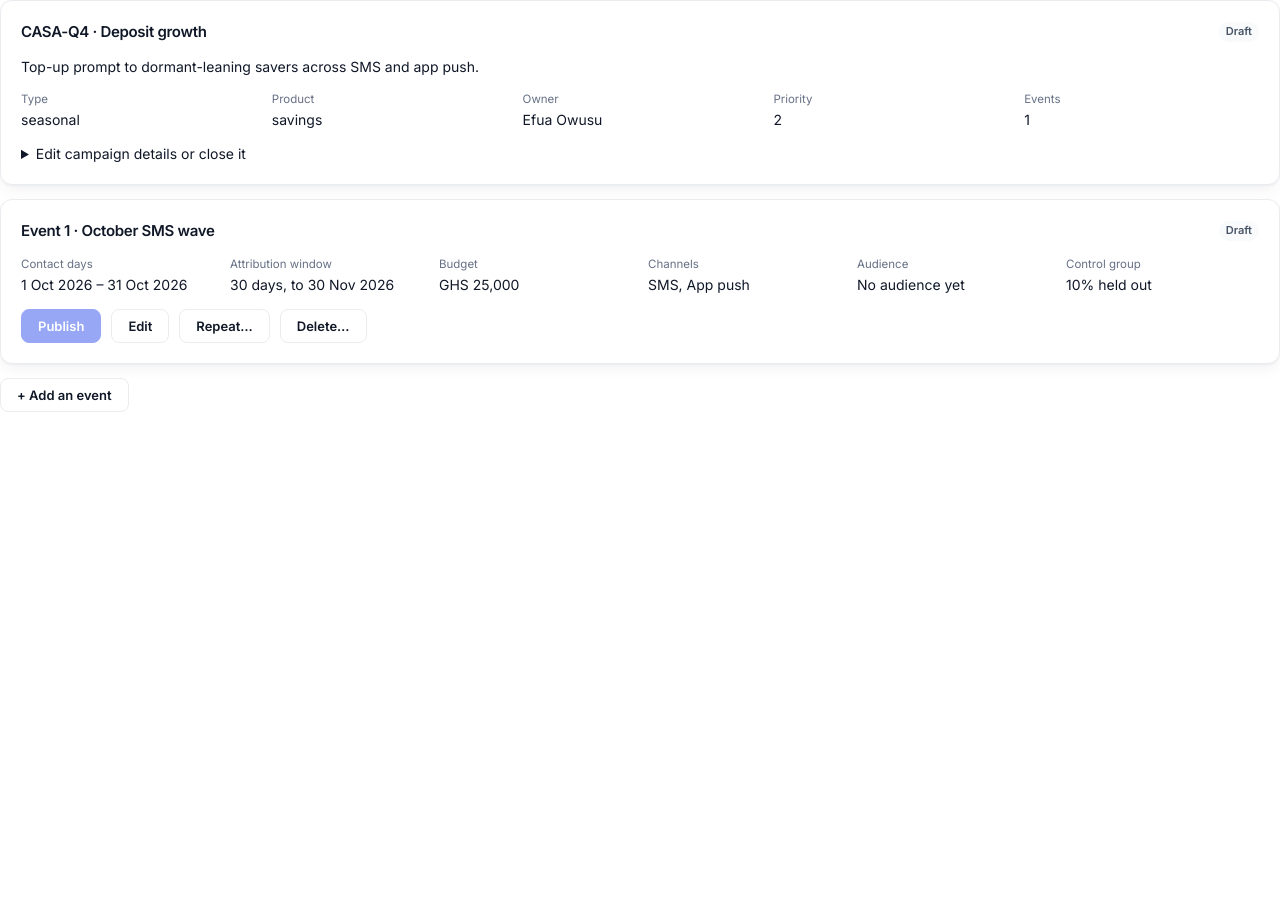
value and return › sends the control group share, and clears it with 0
The image size is (1280, 900).
Click the button "Edit". click: [140, 326]
box: 111,309 -> 169,343
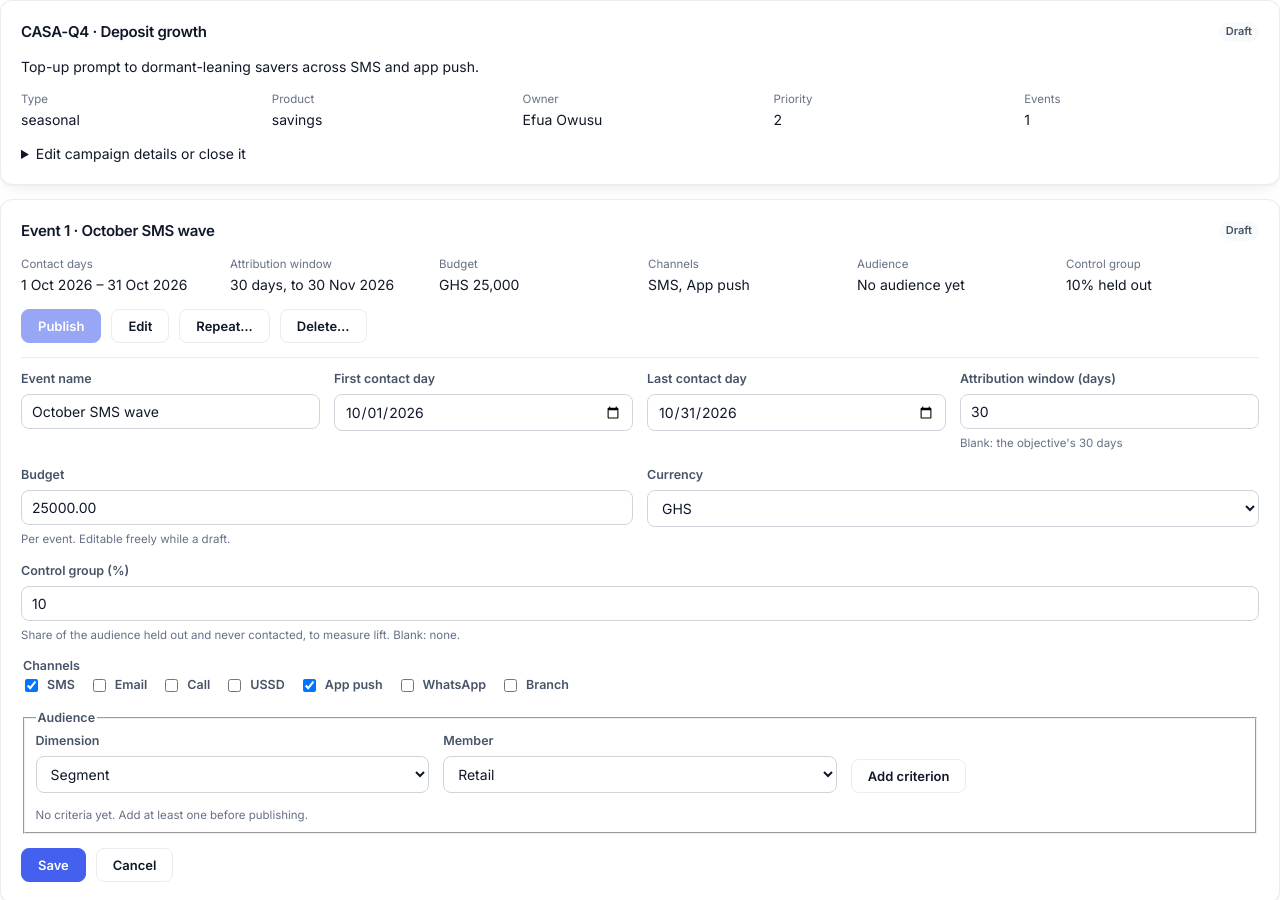
Clear the number field labelled "Control group (%)". click: [640, 603]
box: 21,586 -> 1259,621
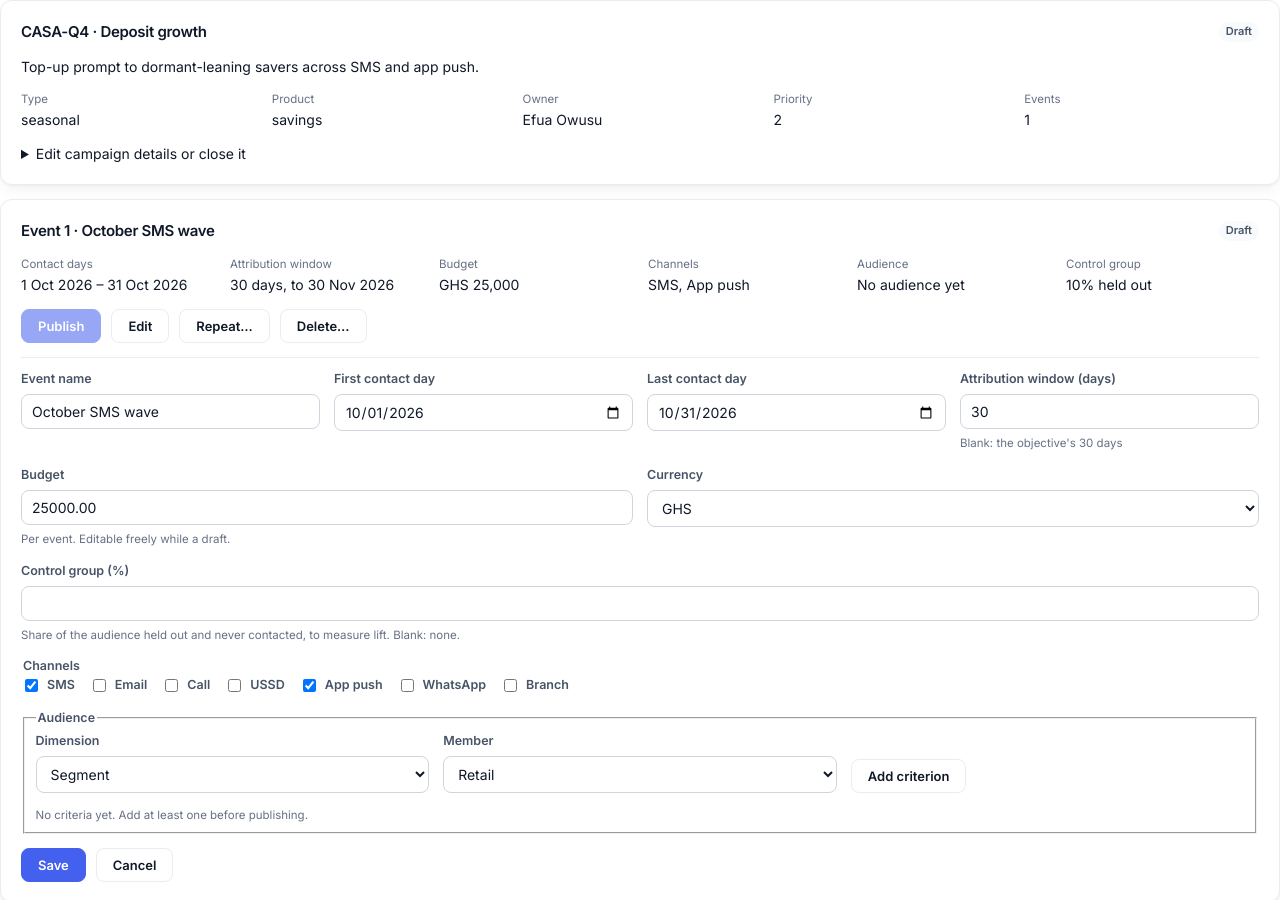
Click the button "Save". click: [53, 865]
box: 21,848 -> 86,882
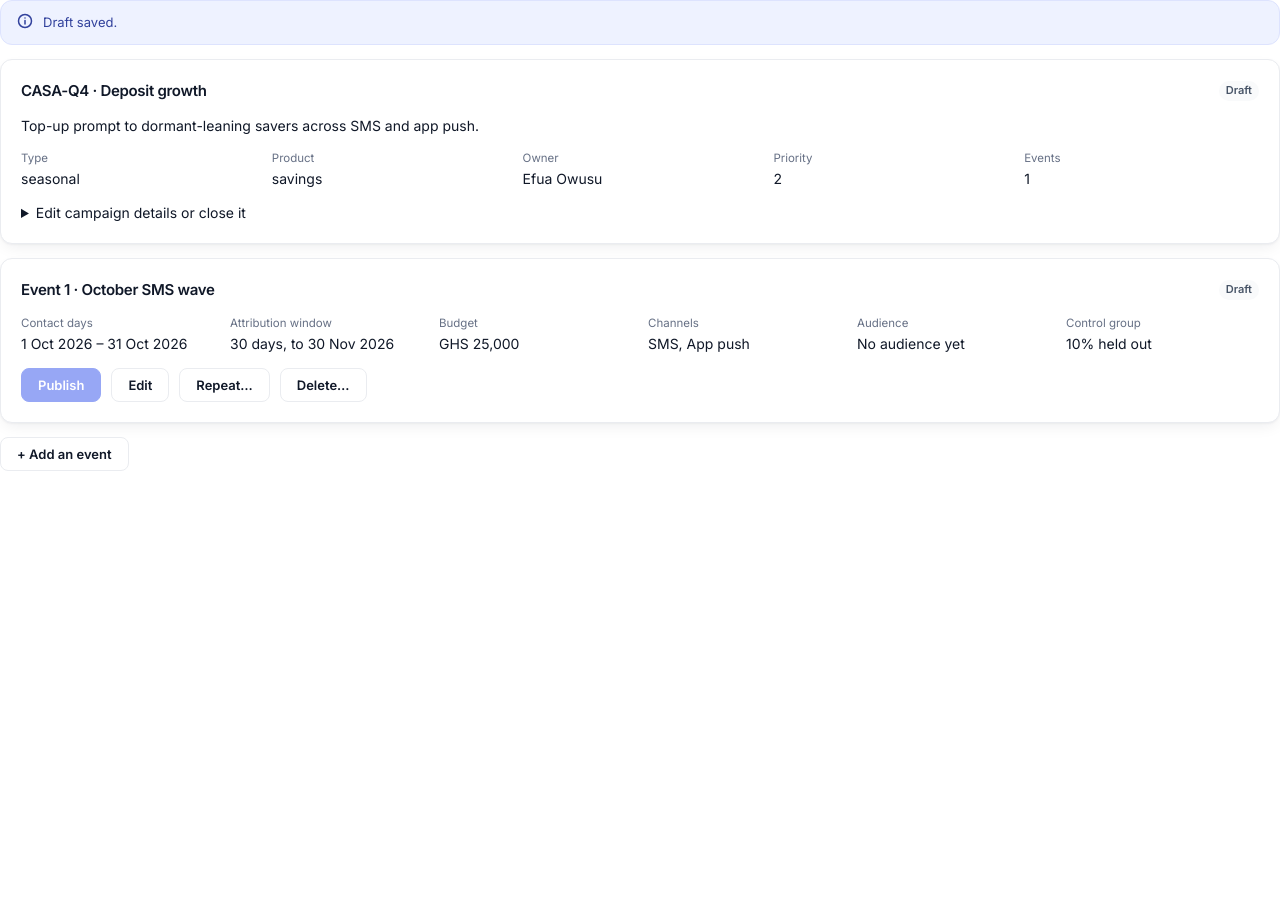
expect the text "Draft saved." is shown: met, box 43,14 -> 117,30
